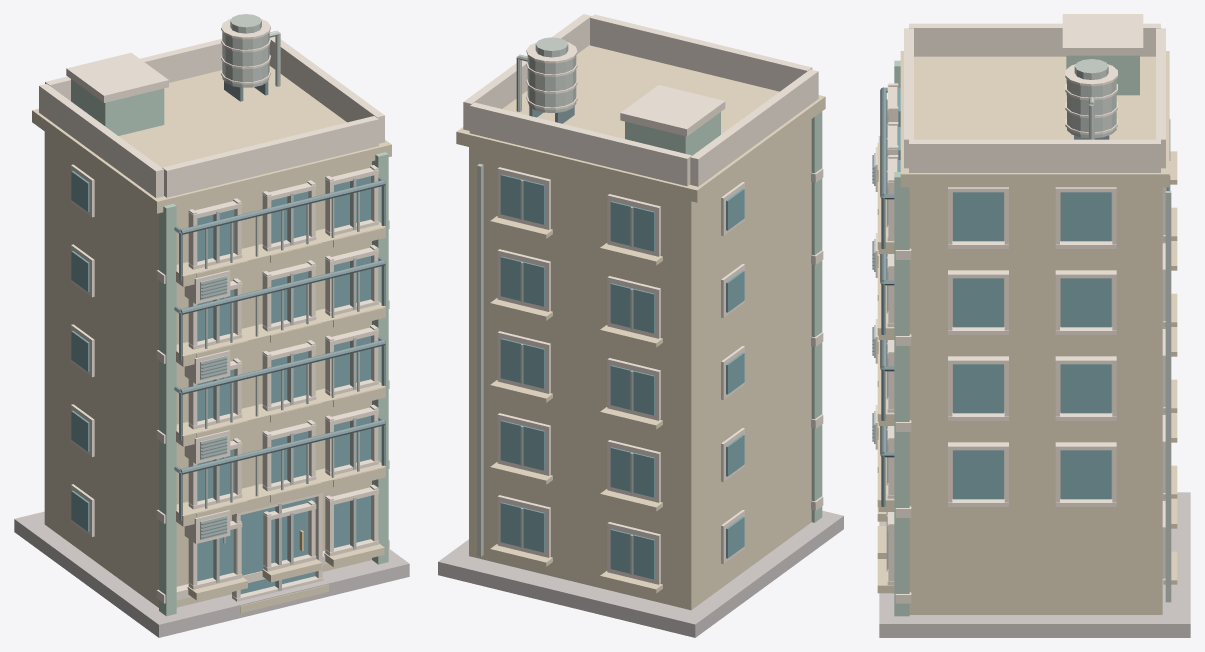
File: town-apartment-1.glb
3 views of the same model, side by side, from view 1: azimuth 30°, elevation 25°; view 2: azimuth 150°, elevation 25°; view 3: azimuth 270°, elevation 25° (orthographic). The views are drawn at different scales.
Visible parts, largest first — view 1: paving; view 2: paving; view 3: paving.
Boxes of the visible parts, x1,y1,x2,y2 form: paving: [14, 14, 409, 637]; paving: [438, 14, 843, 637]; paving: [872, 14, 1190, 637].
Bounding box in the file's own units: 2.2 × 4.19 × 2.25.
1 material, 1 textured.
